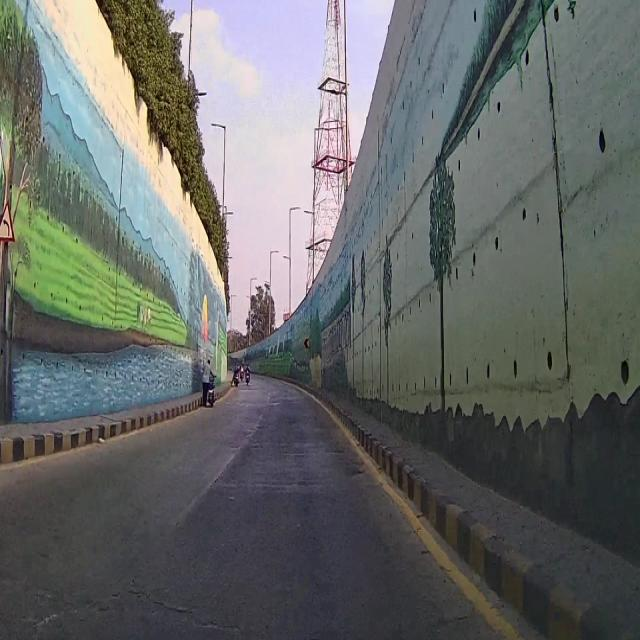left-hand-curve: (1, 200, 14, 239)
